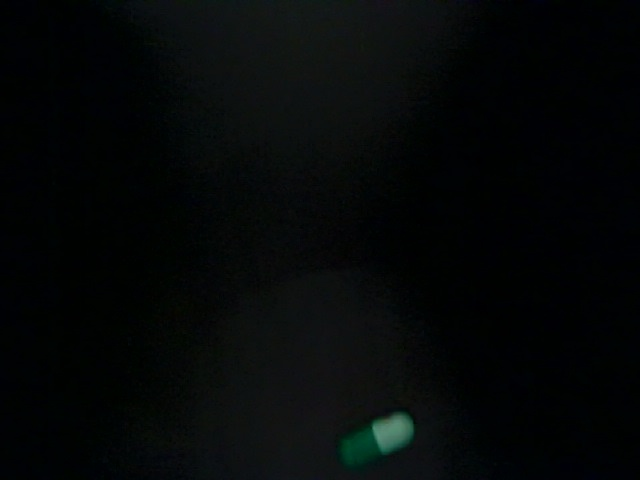YHLJ: (199, 77, 498, 196)
